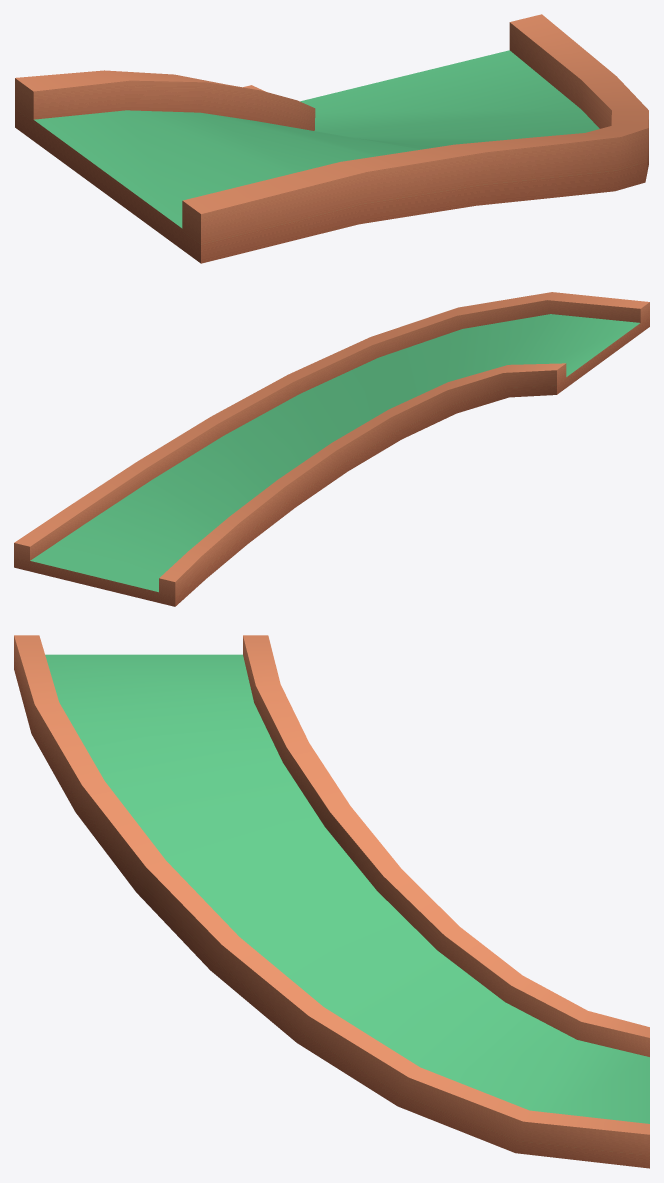
Rendered from spline-default-corner-small-ramp.glb.
3 views of the same model, one above another, from view 1: azimuth 30°, elevation 25°; view 2: azimuth 150°, elevation 25°; view 3: azimuth 270°, elevation 25° (orthographic). The views are drawn at different scales.
Parts seen in each view (by area): view 1: spline-default-corner-small-ramp; view 2: spline-default-corner-small-ramp; view 3: spline-default-corner-small-ramp.
Boxes of the visible parts, x1,y1,x2,y2 form: spline-default-corner-small-ramp: (15,14,648,263); spline-default-corner-small-ramp: (14,292,649,606); spline-default-corner-small-ramp: (14,635,649,1168).
Size of the model in its own units: 2.5 by 1.15 by 2.5.
1 material, 1 textured.
